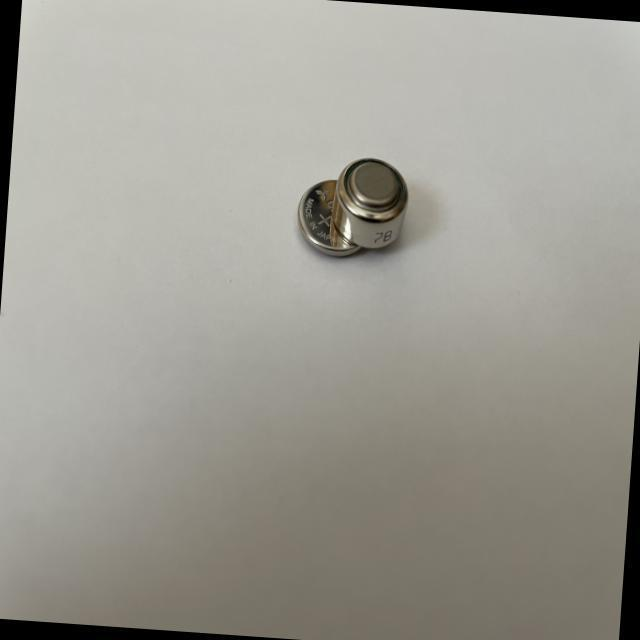COIN: (330, 156, 411, 254), (296, 175, 362, 258)
